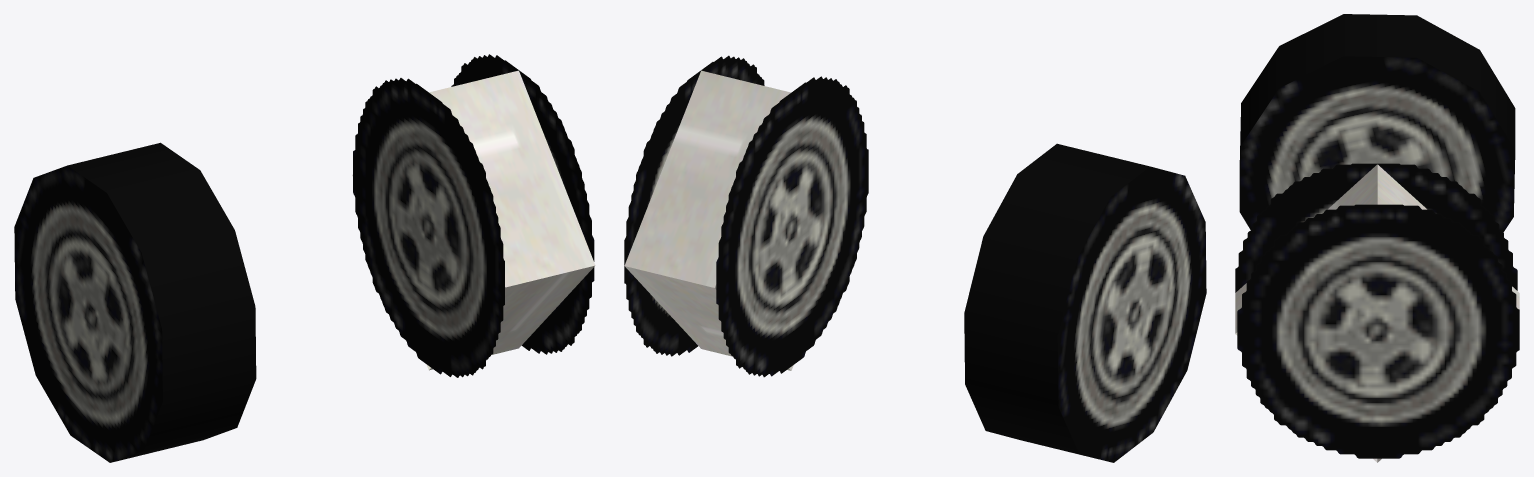
File: wheel.obj
The picture shows the model from 3 angles, left to right: view 1: azimuth 30°, elevation 25°; view 2: azimuth 150°, elevation 25°; view 3: azimuth 270°, elevation 25°; orthographic projection. The views are drawn at different scales.
Parts seen in each view (by area): view 1: cleanwheel, cleanwheel_old; view 2: cleanwheel, cleanwheel_old; view 3: cleanwheel_old, cleanwheel.
Part boxes in pixels (x1,y1,x2,y2): cleanwheel: (14, 142, 256, 462); cleanwheel_old: (352, 54, 595, 377); cleanwheel: (964, 143, 1206, 462); cleanwheel_old: (624, 55, 868, 377); cleanwheel_old: (1235, 163, 1519, 462); cleanwheel: (1239, 14, 1515, 231).
Size of the model in its own units: 0.4775 by 0.2952 by 0.2948.
